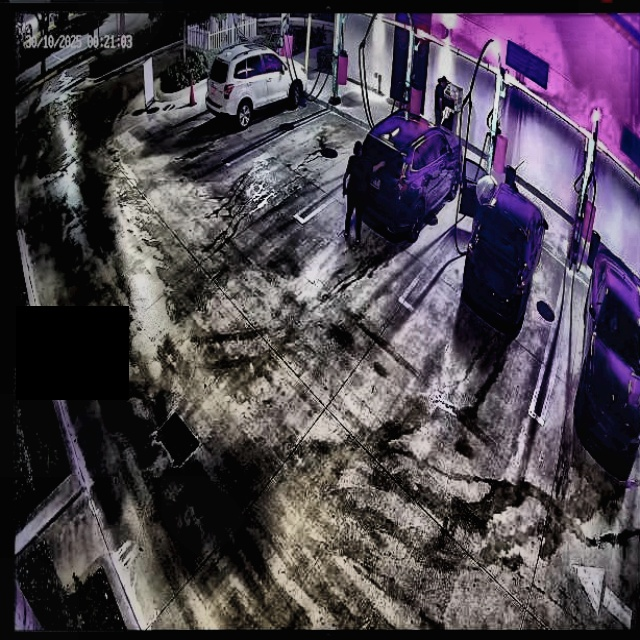Car: (354, 108, 462, 237), (462, 177, 544, 325)
